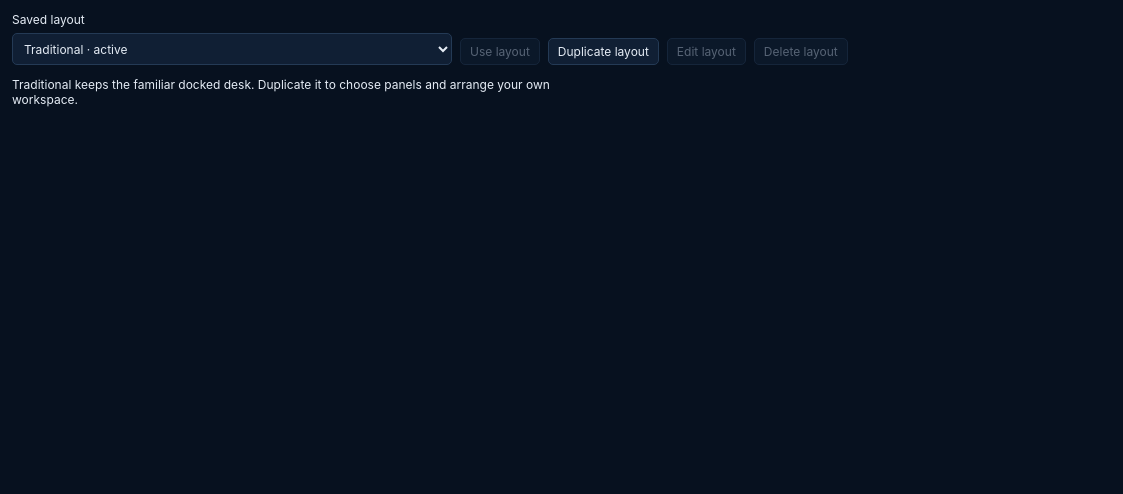
Scenario: fits a separate-window rectangle back onto the canvas before saving
The width and height of the screenshot is (1123, 494).
Select "Custom" in the dropdown labelled "Saved layout" at (232,49), box [12,33,452,65]
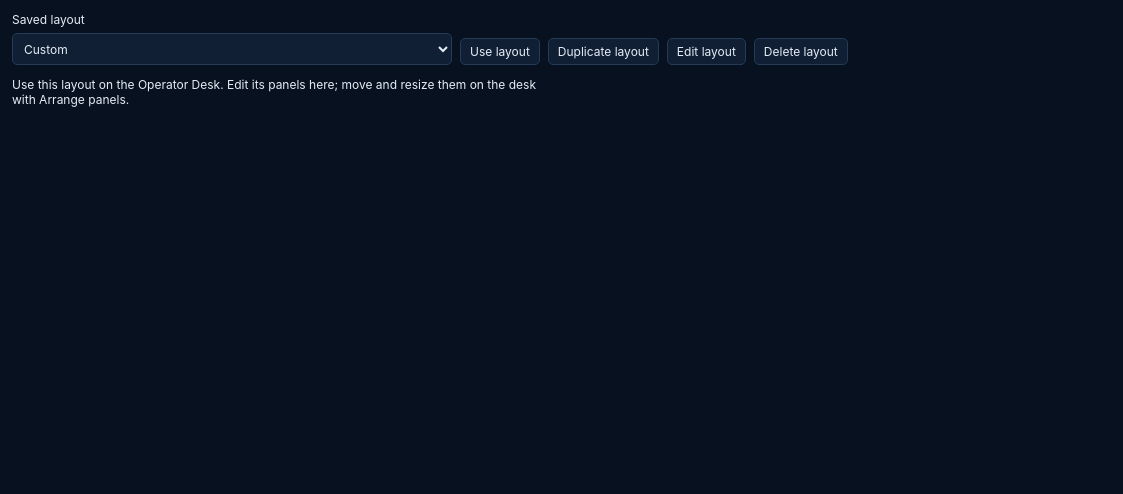
Click the button "Edit layout".
click(706, 52)  # box [667,38,746,65]
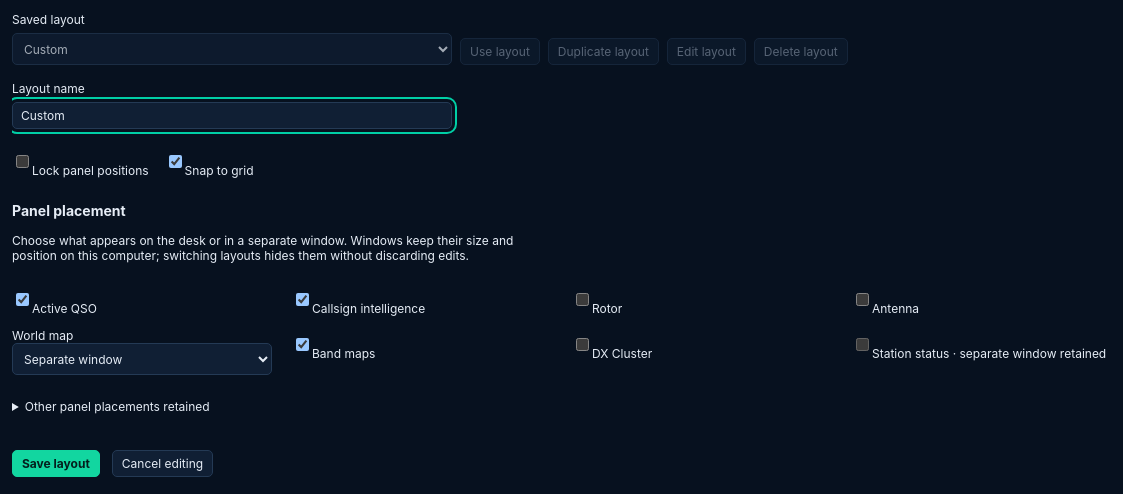
Select "Operator Desk" in the dropdown named "World map placement" at (142,359), box [12,343,272,375]
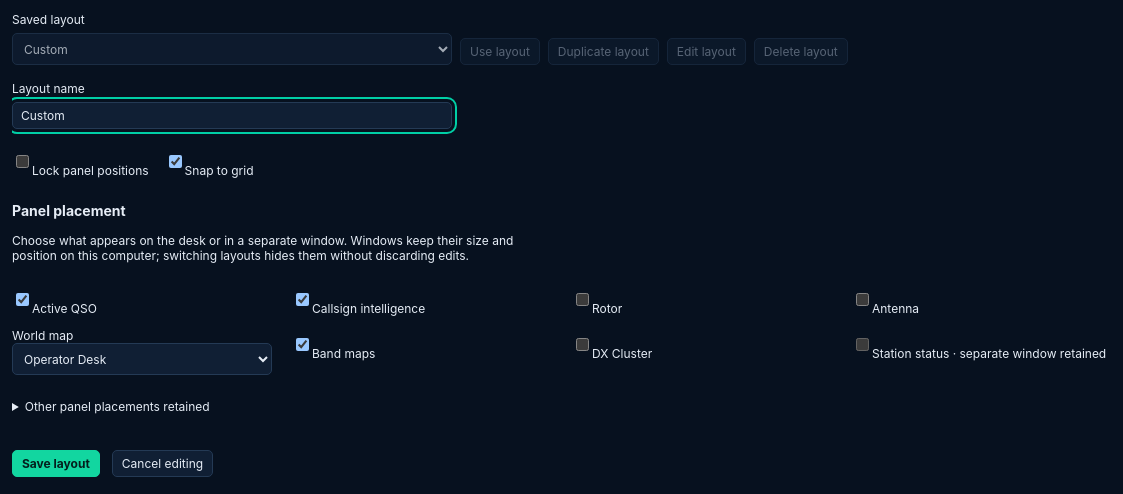
Click the button "Save layout".
click(56, 464)  # box [12,450,100,477]
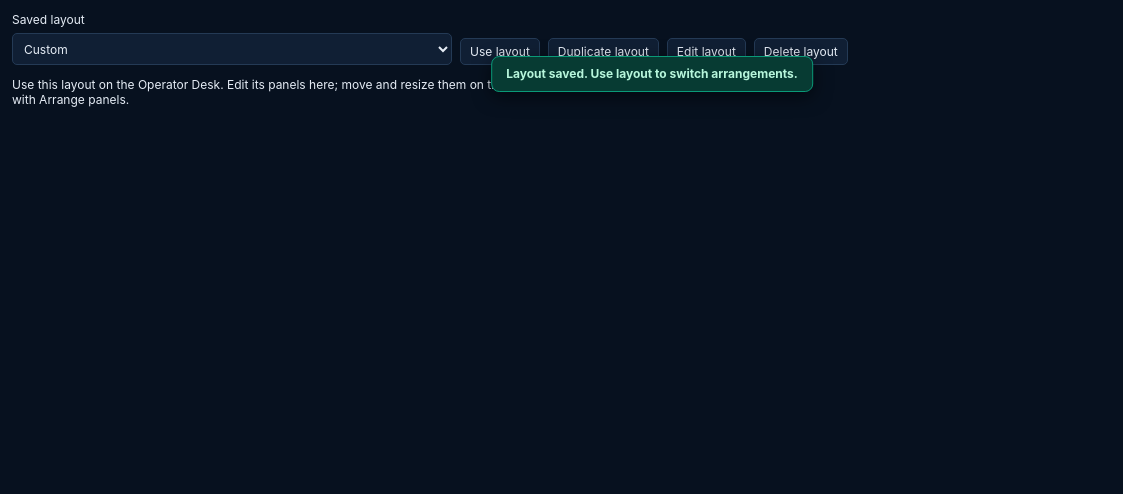
Expected: the text "Layout saved. Use layout to switch arrangements." is shown, [491,56,813,92]
